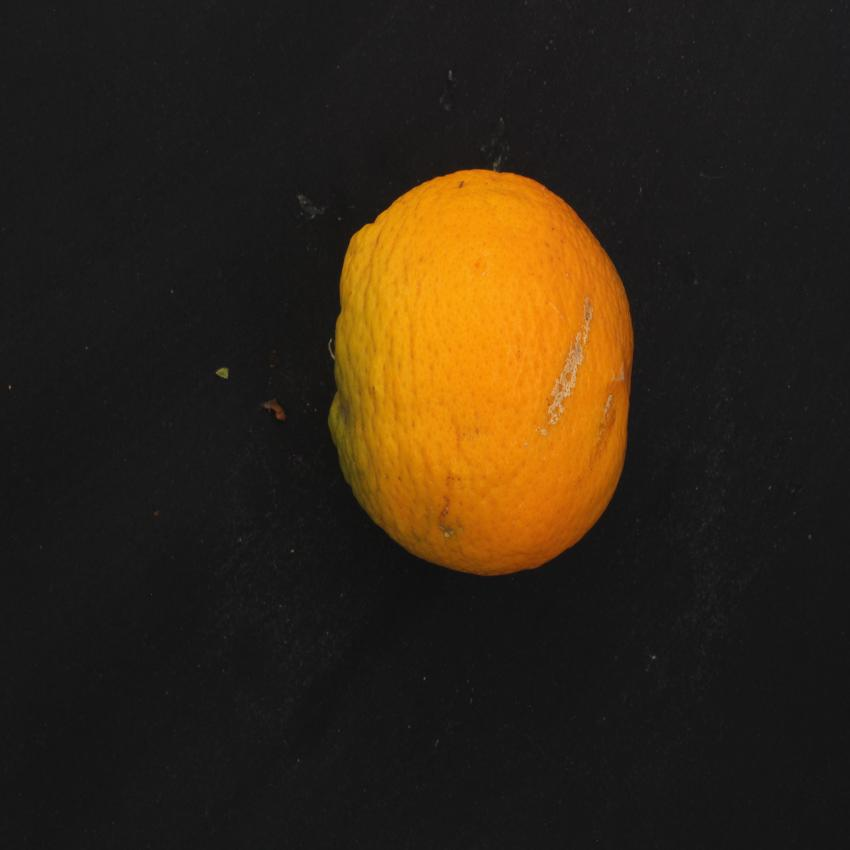Buen estado: (321, 159, 641, 599)
